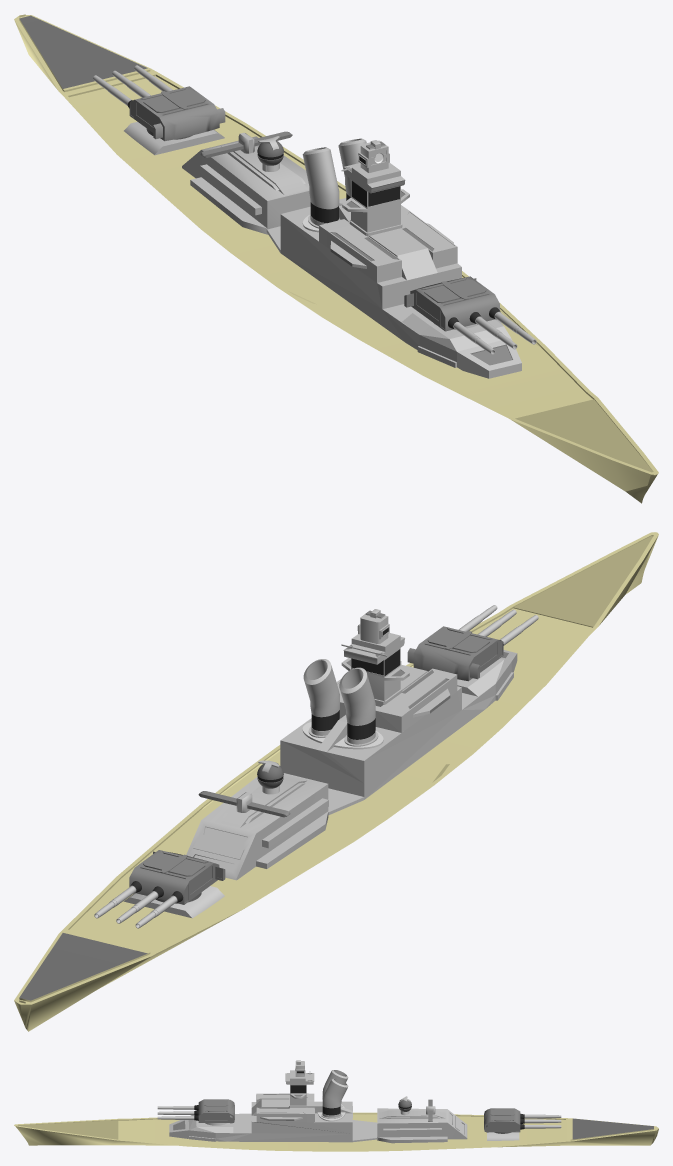
The model's file is BB1AlphaV2.fbx.
3 views of the same model, one above another, from view 1: azimuth 30°, elevation 25°; view 2: azimuth 150°, elevation 25°; view 3: azimuth 270°, elevation 25° (orthographic). The views are drawn at different scales.
Parts seen in each view (by area): view 1: Polygon, Cube, Cube_2, Cube_1, Base, Base_2, Oil_Tank_1, Cube_5, Cube_4; view 2: Polygon, Cube, Cube_2, Cube_1, Base_2, Base, Oil_Tank_1, Oil_Tank, Cube_5, Cube_4; view 3: Polygon, Cube, Cube_2, Cube_1, Base, Base_2, Oil_Tank, Cube_5, Oil_Tank_1, Barrel_1, Barrel_2, Barrel (+3 smaller).
Boxes of the visible parts, left/top/right/bottom form: Polygon: left=14, top=14, right=658, bottom=503; Cube: left=266, top=198, right=521, bottom=378; Cube_2: left=182, top=136, right=310, bottom=234; Cube_1: left=341, top=140, right=409, bottom=236; Base: left=129, top=86, right=225, bottom=141; Base_2: left=404, top=276, right=499, bottom=331; Oil_Tank_1: left=302, top=147, right=340, bottom=228; Cube_5: left=124, top=122, right=224, bottom=155; Cube_4: left=200, top=131, right=292, bottom=157; Polygon: left=14, top=532, right=658, bottom=1031; Cube: left=280, top=650, right=517, bottom=815; Cube_2: left=186, top=773, right=328, bottom=880; Cube_1: left=341, top=609, right=409, bottom=706; Base_2: left=407, top=626, right=503, bottom=681; Base: left=129, top=850, right=225, bottom=904; Oil_Tank_1: left=339, top=667, right=378, bottom=746; Oil_Tank: left=303, top=659, right=339, bottom=737; Cube_5: left=123, top=886, right=224, bottom=918; Cube_4: left=198, top=791, right=290, bottom=817; Polygon: left=14, top=1112, right=658, bottom=1151; Cube: left=169, top=1093, right=377, bottom=1142; Cube_2: left=377, top=1108, right=467, bottom=1143; Cube_1: left=285, top=1060, right=314, bottom=1107; Base: left=484, top=1108, right=520, bottom=1132; Base_2: left=198, top=1099, right=234, bottom=1123; Oil_Tank: left=321, top=1078, right=348, bottom=1118; Cube_5: left=487, top=1132, right=519, bottom=1140; Oil_Tank_1: left=322, top=1070, right=348, bottom=1106; Barrel_1: left=520, top=1118, right=561, bottom=1123; Barrel_2: left=520, top=1113, right=561, bottom=1118; Barrel: left=520, top=1124, right=561, bottom=1129.
Size of the model in its own units: 574 by 585 by 4015.
